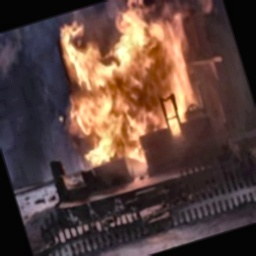fire: (26, 0, 218, 184)
